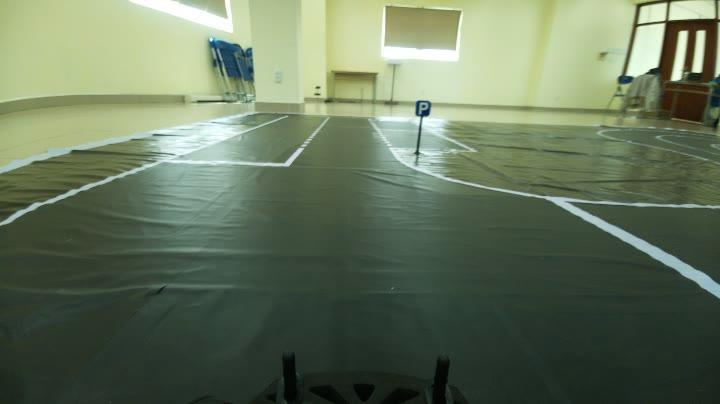parking: (402, 95, 437, 123)
